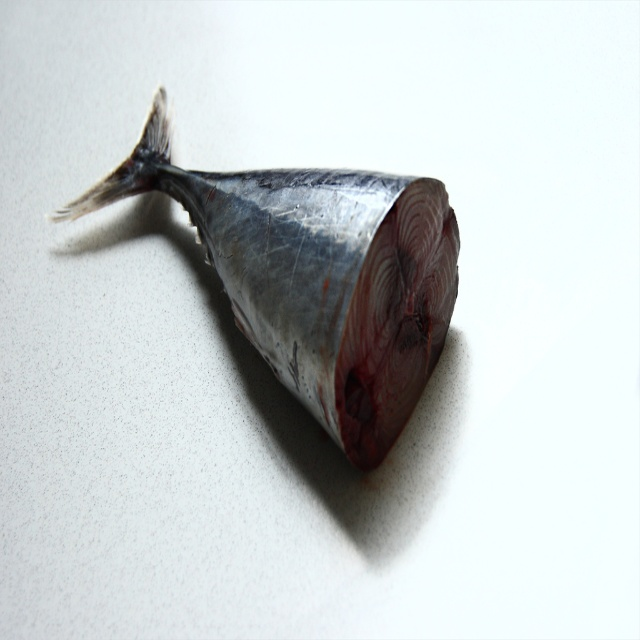Fish: (30, 90, 447, 476)
